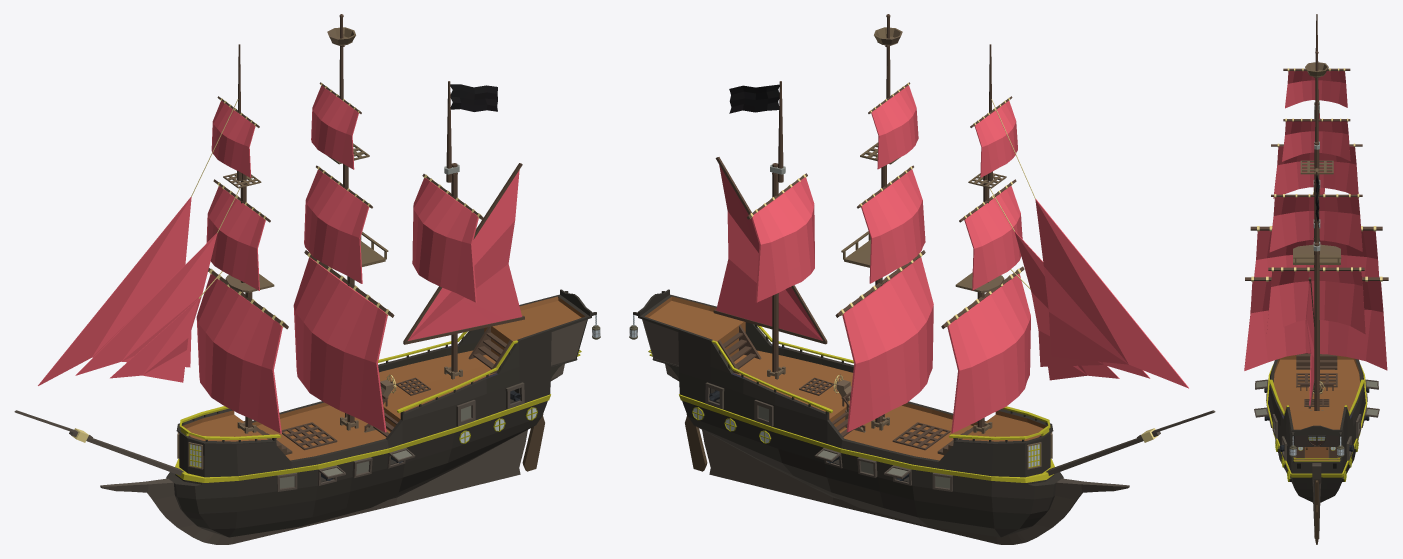
The model's file is fortuneTrader.obj.
The picture shows the model from 3 angles, left to right: view 1: azimuth 30°, elevation 25°; view 2: azimuth 150°, elevation 25°; view 3: azimuth 270°, elevation 25°; orthographic projection. The views are drawn at different scales.
Visible parts, largest first — view 1: Sail, Body, Mast; view 2: Sail, Body, Mast; view 3: Sail, Body, Mast.
Boxes of the visible parts, x1=… form: Sail: x1=38, y1=84, x2=522, y2=433; Body: x1=14, y1=289, x2=600, y2=544; Mast: x1=191, y1=14, x2=524, y2=427; Sail: x1=716, y1=84, x2=1188, y2=433; Body: x1=629, y1=289, x2=1215, y2=544; Mast: x1=713, y1=14, x2=1035, y2=427; Sail: x1=1244, y1=71, x2=1387, y2=405; Body: x1=1254, y1=353, x2=1379, y2=544; Mast: x1=1245, y1=14, x2=1388, y2=410.
Bounding box in the file's own units: 613 × 515 × 162.
1 material, 1 textured.
